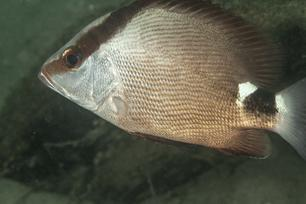Lutjanidae -Snappers-: (34, 0, 306, 178)
